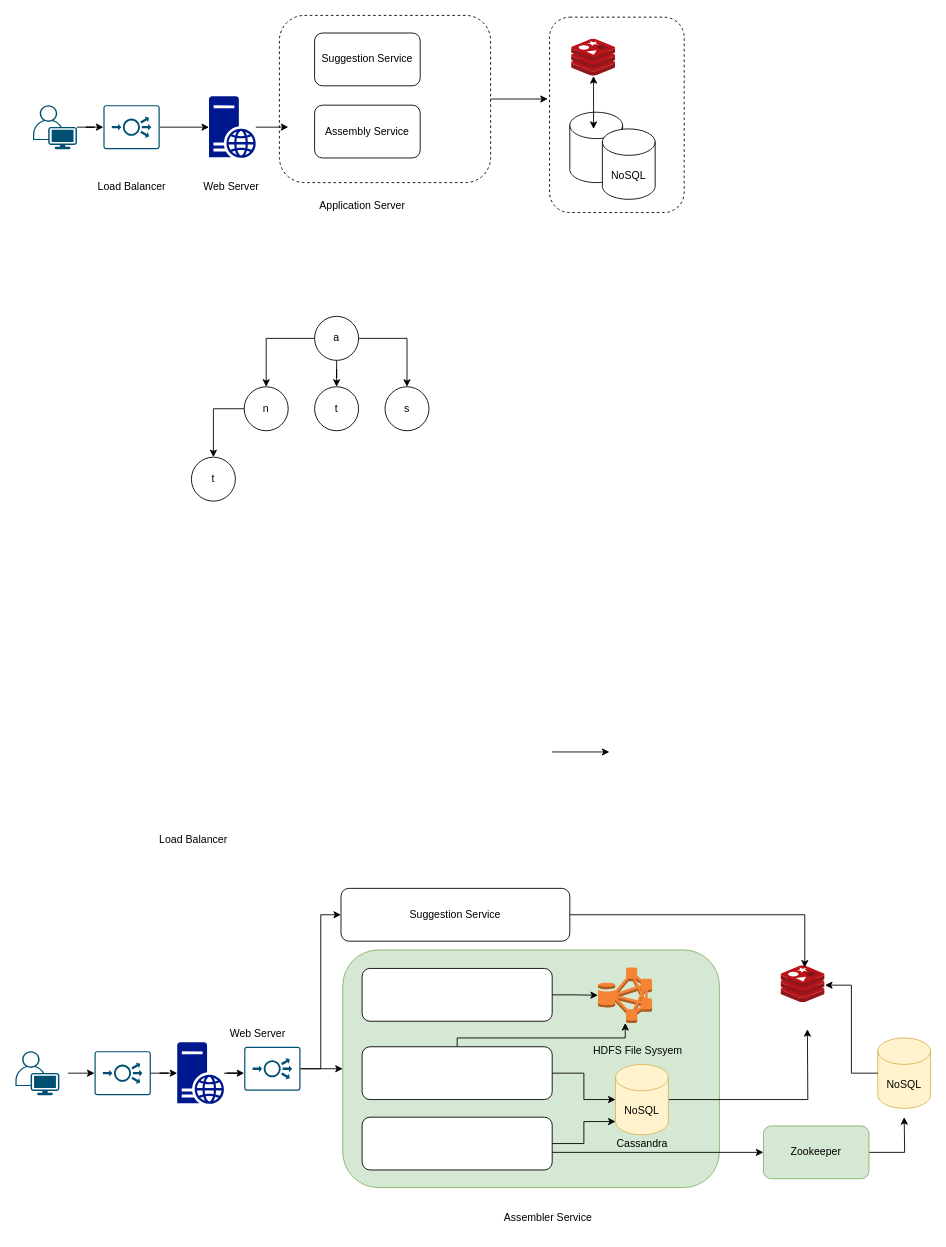
Some shapes in this 946 by 1247 pixel diagram are drawn without their labels. Each missing label, with the centre of its shape:
"Aggregator Service" belongs at (456,1073).
"Collection Service" belongs at (456,994).
"Redis" belongs at (593,57).
"Trie Builder" belongs at (456,1143).
"Trie Cache" belongs at (803,983).
